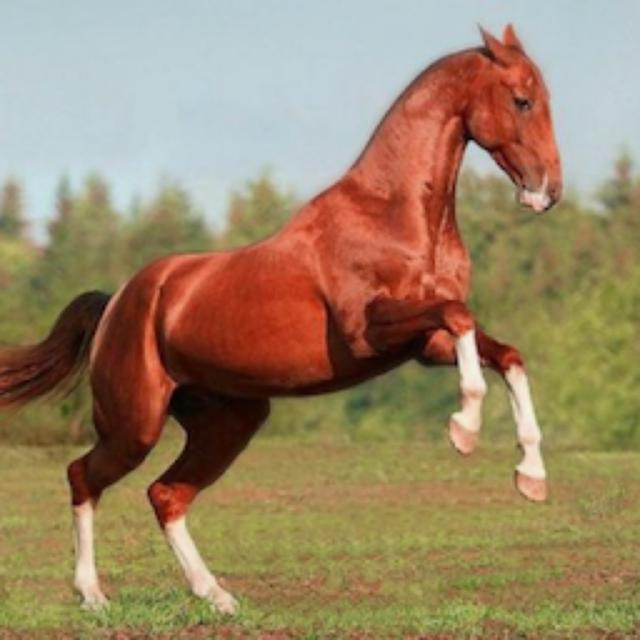Horse: (2, 18, 572, 622)
